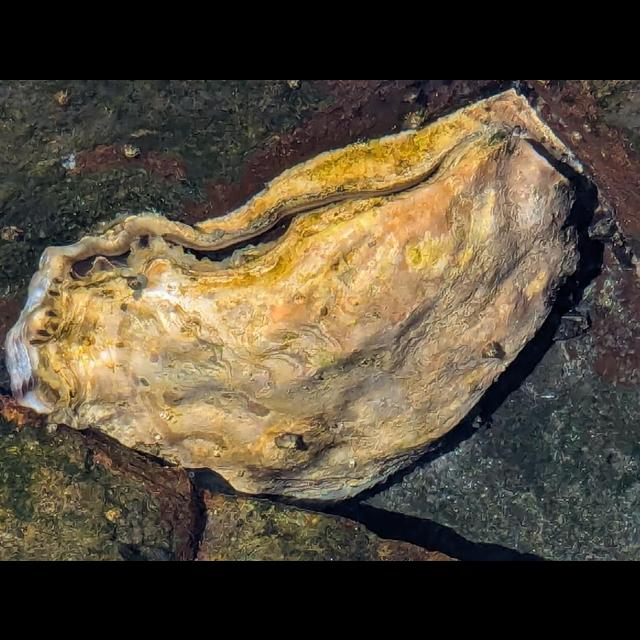Oyster-Open: (4, 87, 598, 499)
